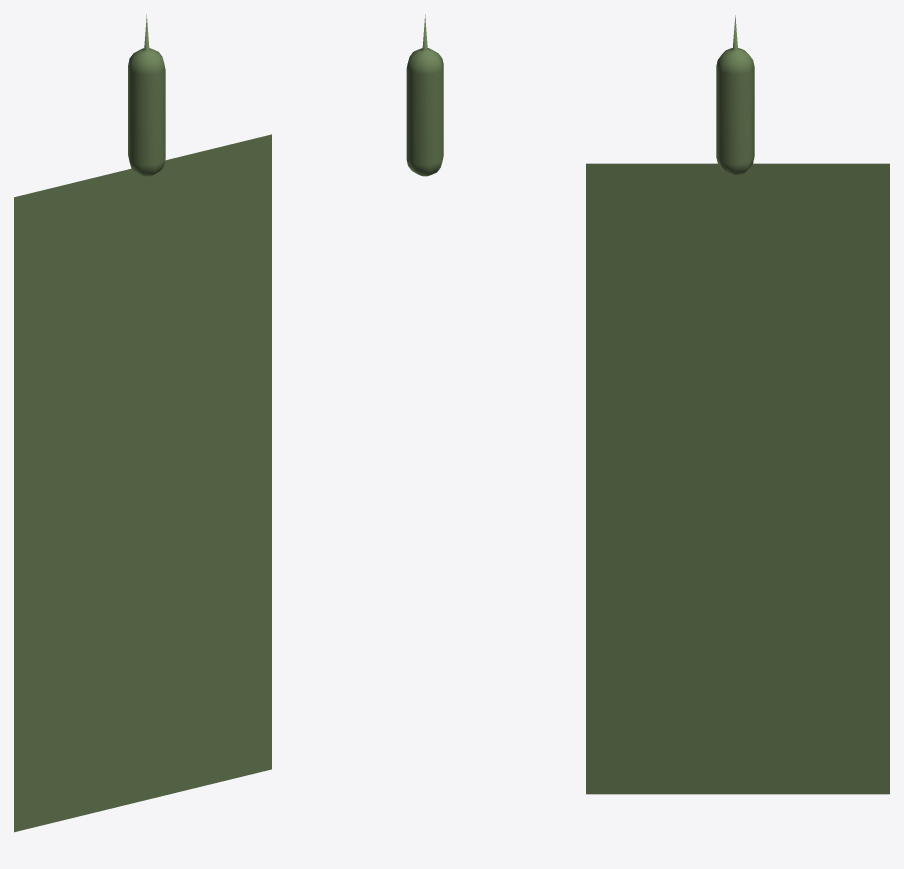
File: cattail-1.glb
3 views of the same model, side by side, from view 1: azimuth 30°, elevation 25°; view 2: azimuth 150°, elevation 25°; view 3: azimuth 270°, elevation 25° (orthographic).
Visible parts, largest first — view 1: cattail-1-mesh; view 2: cattail-1-mesh; view 3: cattail-1-mesh.
Part boxes in pixels (x1=…): cattail-1-mesh: x1=14, y1=14, x2=271, y2=832; cattail-1-mesh: x1=406, y1=14, x2=443, y2=176; cattail-1-mesh: x1=586, y1=15, x2=889, y2=794.
Bounding box in the file's own units: 56.28 × 164 × 57.82.
